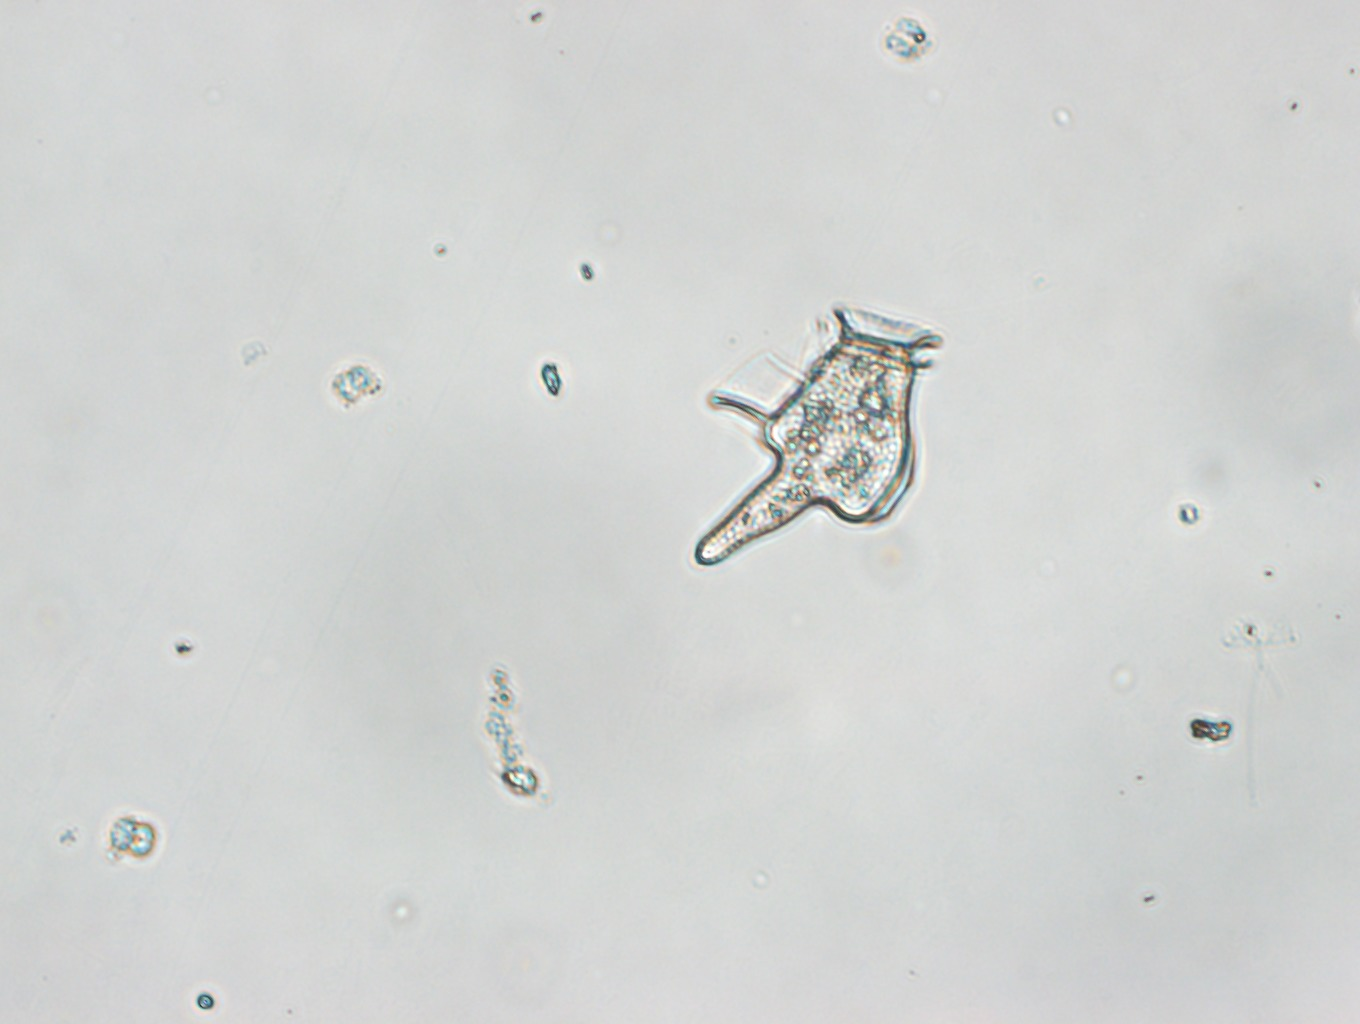dinophysis caudata: (689, 304, 956, 563)
